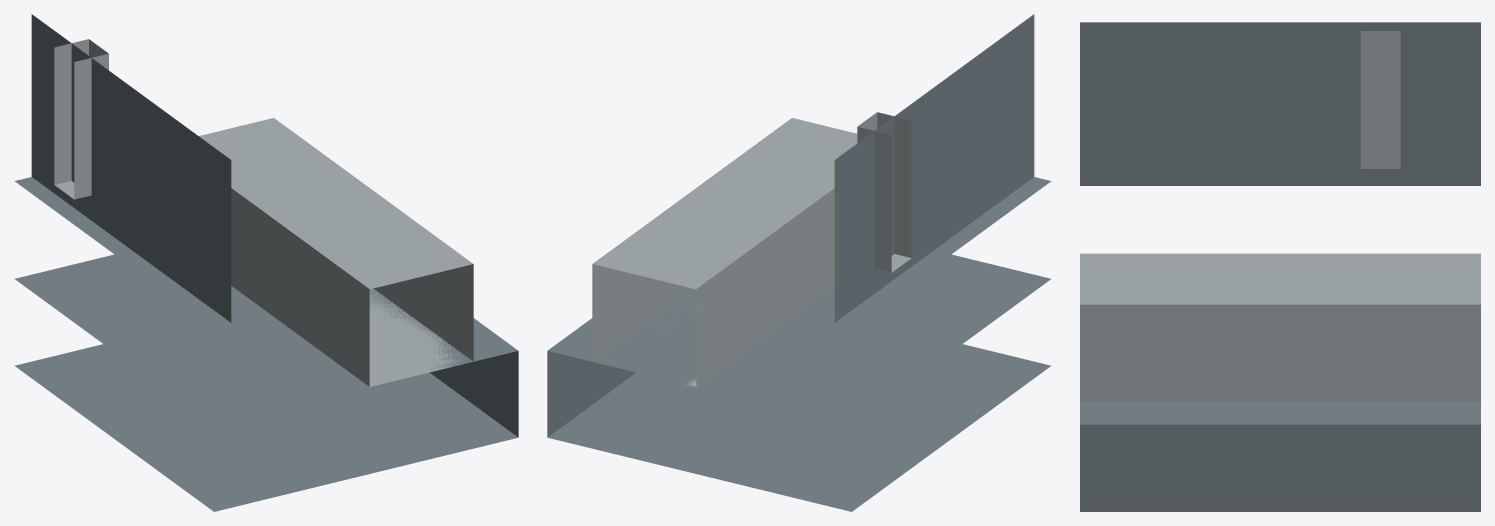
The model's file is cell_14.obj.
3 views of the same model, side by side, from view 1: azimuth 30°, elevation 25°; view 2: azimuth 150°, elevation 25°; view 3: azimuth 270°, elevation 25° (orthographic).
Bounding box in the file's own units: 0.88 × 0.96 × 1.
